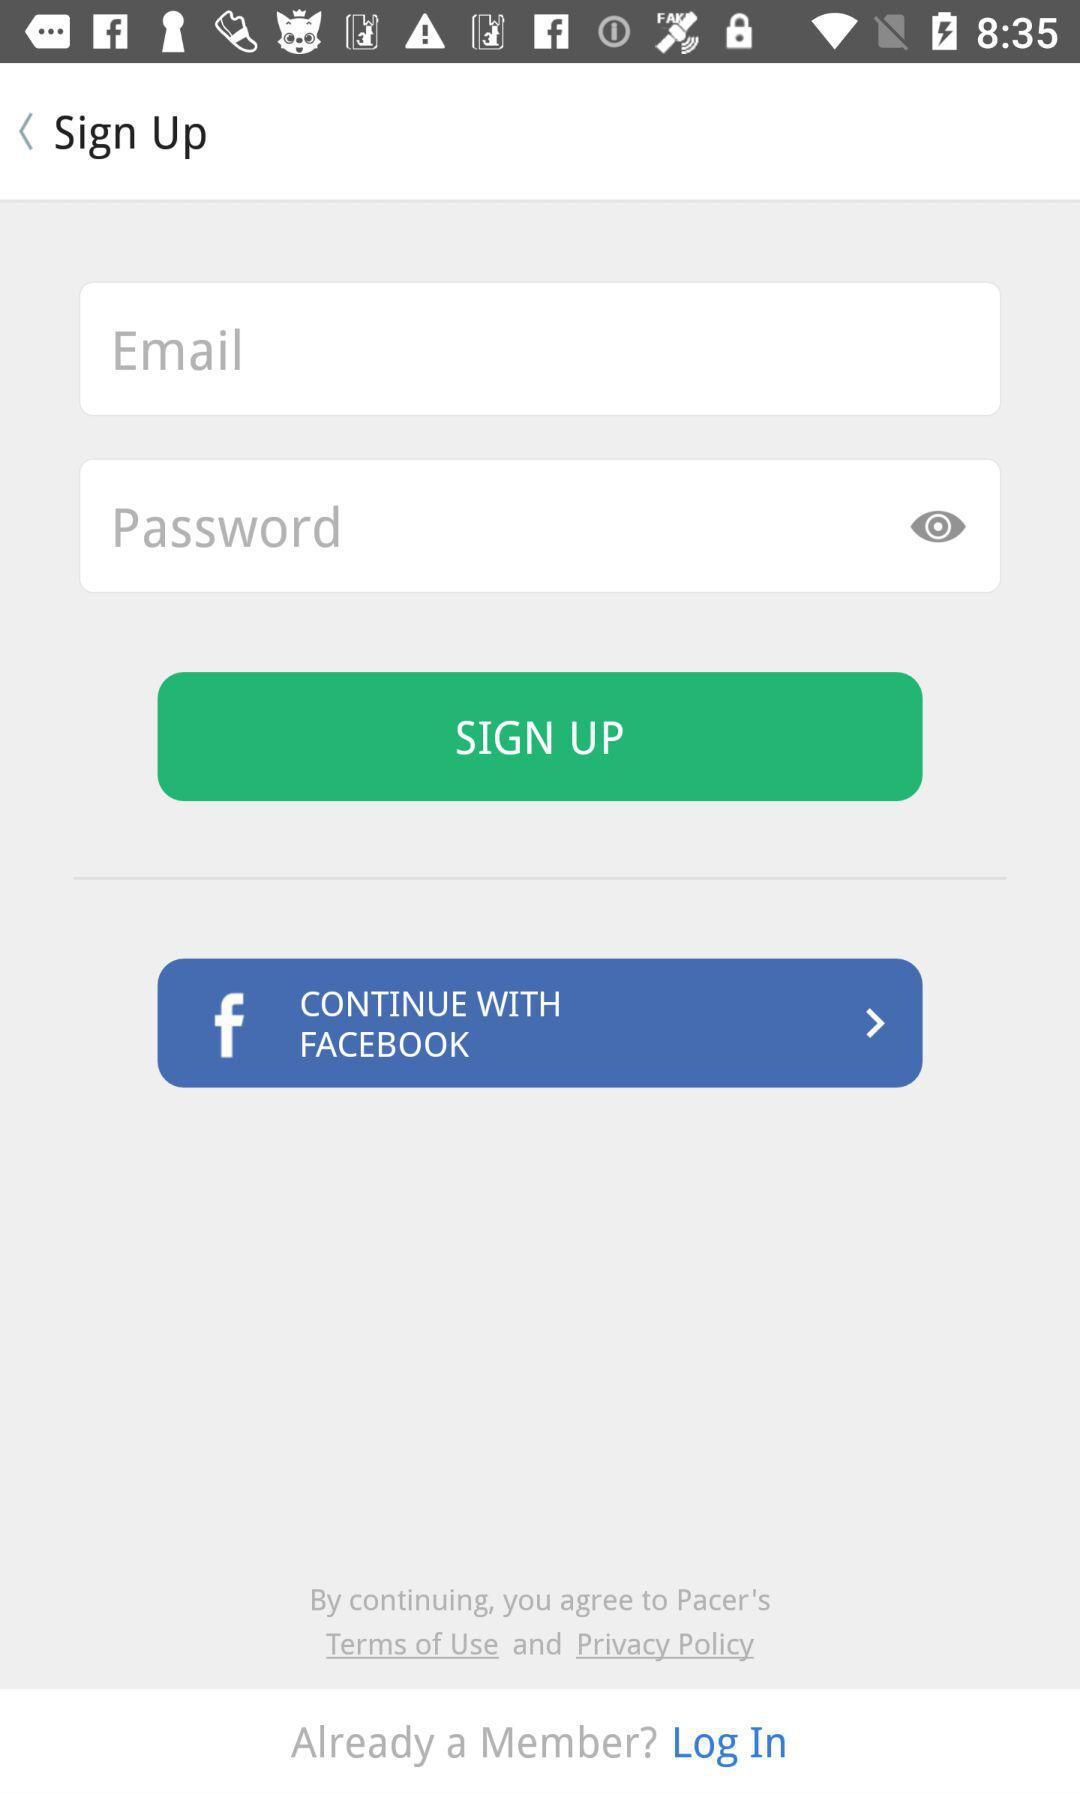EditText: (79, 459, 1002, 595), (79, 281, 1001, 416)
Icon: (910, 511, 967, 545), (19, 111, 35, 152)
Text: (311, 1586, 771, 1663), (115, 505, 340, 548), (55, 115, 208, 161), (115, 328, 241, 372)
TextButton: (1, 1689, 1080, 1794), (158, 671, 924, 803), (158, 959, 922, 1089)
Toolbar: (1, 64, 1080, 201)
UpperTaskBar: (1, 1, 1080, 64)
